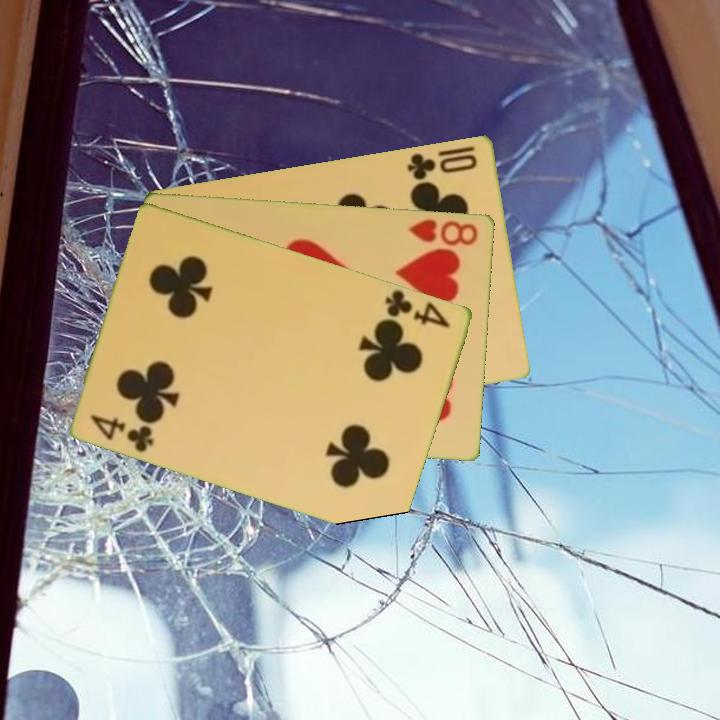10c: (404, 149, 481, 182)
4c: (382, 286, 454, 331), (87, 411, 158, 455)
8h: (405, 215, 481, 248)
